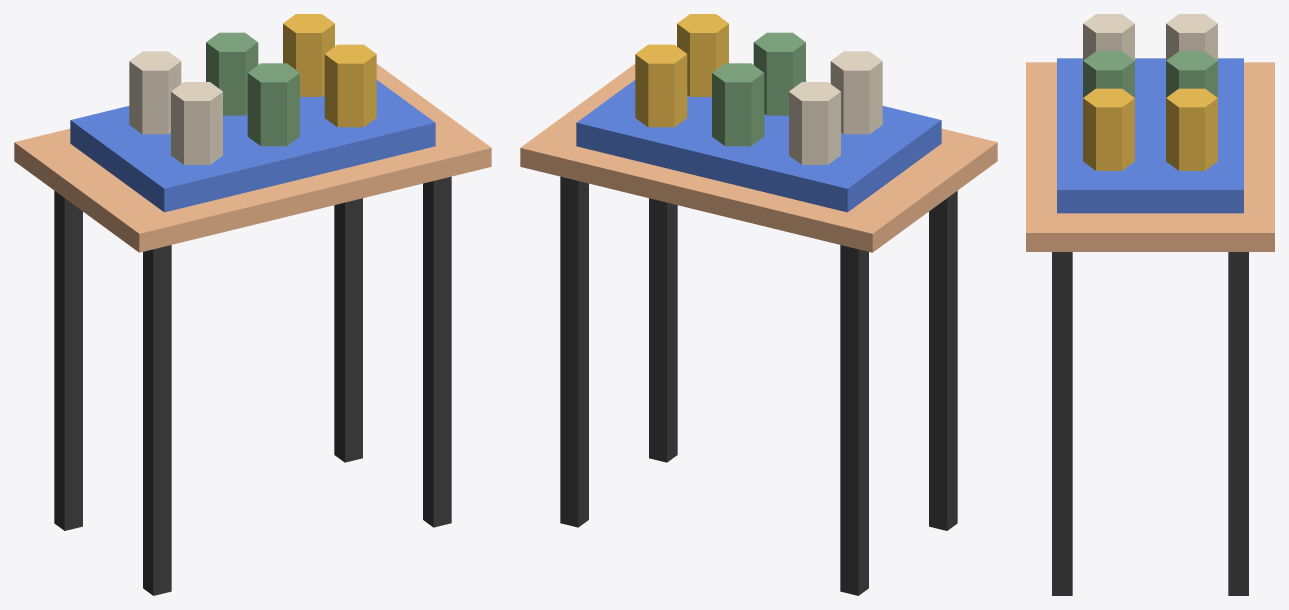
3 views of the same model, side by side, from view 1: azimuth 30°, elevation 25°; view 2: azimuth 150°, elevation 25°; view 3: azimuth 270°, elevation 25° (orthographic).
Visible parts, largest first — view 1: Display tabletop, Organizer tray, Display support leg.002, Display support leg, Display support leg.001, Display support leg.003, parts item.002, parts item.001, parts item, parts item.003, parts item.004, parts item.005; view 2: Display tabletop, Organizer tray, Display support leg.003, Display support leg.001, Display support leg, Display support leg.002, parts item.005, parts item.004, parts item.003, parts item, parts item.001, parts item.002; view 3: Display tabletop, Organizer tray, Display support leg.002, Display support leg.003, parts item.002, parts item.005, parts item, parts item.001, parts item.003, parts item.004.
Boxes of the visible parts, box(x1,y1,x2,y2) form: Display tabletop: box(14, 64, 491, 252); Organizer tray: box(70, 80, 435, 212); Display support leg.002: box(423, 176, 451, 527); Display support leg: box(143, 245, 171, 595); Display support leg.001: box(54, 191, 82, 530); Display support leg.003: box(334, 198, 362, 462); parts item.002: box(324, 44, 376, 127); parts item.001: box(247, 63, 299, 146); parts item: box(171, 82, 222, 164); parts item.003: box(129, 51, 181, 134); parts item.004: box(206, 32, 258, 115); parts item.005: box(283, 14, 334, 96); Display tabletop: box(520, 64, 997, 252); Organizer tray: box(576, 80, 941, 212); Display support leg.003: box(560, 176, 588, 527); Display support leg.001: box(840, 245, 868, 595); Display support leg: box(929, 191, 957, 530); Display support leg.002: box(649, 198, 677, 462); parts item.005: box(635, 44, 687, 127); parts item.004: box(712, 63, 764, 146); parts item.003: box(789, 82, 840, 164); parts item: box(830, 51, 882, 134); parts item.001: box(753, 32, 805, 115); parts item.002: box(677, 14, 728, 96); Display tabletop: box(1026, 62, 1274, 251); Organizer tray: box(1057, 58, 1243, 213); Display support leg.002: box(1052, 252, 1072, 595); Display support leg.003: box(1228, 252, 1248, 595); parts item.002: box(1083, 88, 1134, 170); parts item.005: box(1166, 88, 1217, 170); parts item: box(1083, 14, 1134, 60); parts item.001: box(1083, 51, 1134, 97); parts item.003: box(1166, 14, 1217, 60); parts item.004: box(1166, 51, 1217, 97).
Bounding box in the file's own units: 0.78 × 0.985 × 0.48.
1 material, 1 textured.
